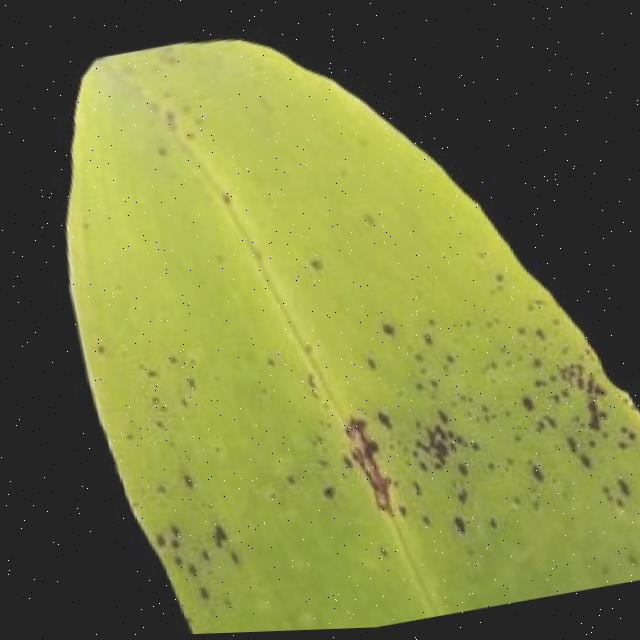mite: (108, 269, 640, 614), (350, 283, 640, 557), (144, 509, 246, 616), (610, 477, 631, 503), (206, 522, 226, 548), (446, 515, 464, 538), (515, 396, 534, 417), (175, 468, 192, 491), (525, 463, 542, 486), (191, 582, 208, 603), (315, 484, 334, 501), (480, 516, 497, 535)
spots: (23, 0, 640, 637)
